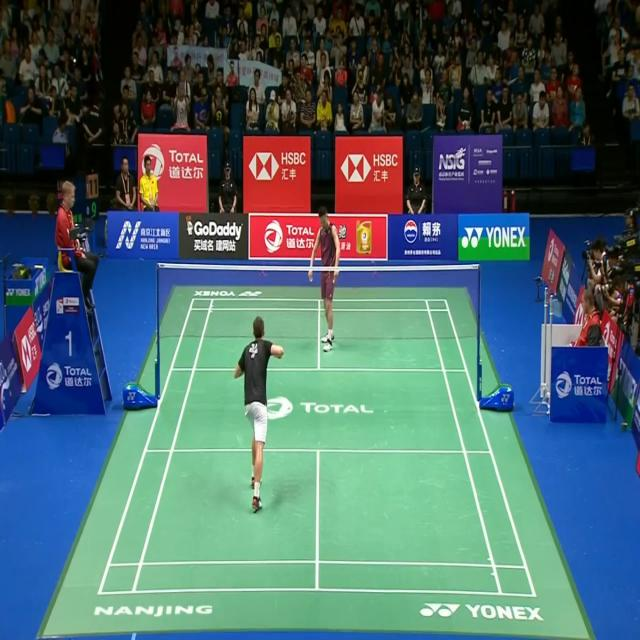Player1: (230, 311, 286, 517)
Player2: (305, 202, 343, 362)
